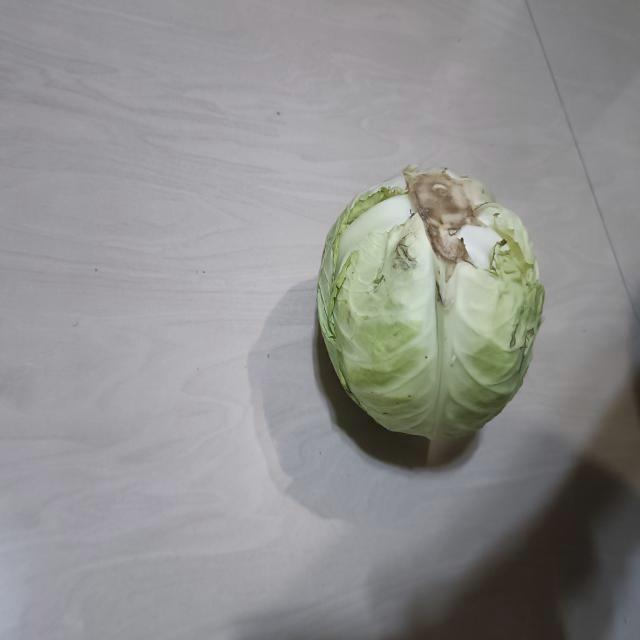cabbage: (317, 163, 544, 439)
